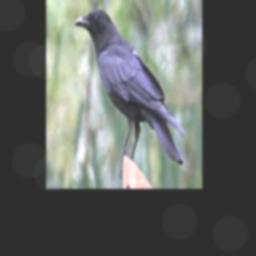Crow: (75, 8, 186, 180)
